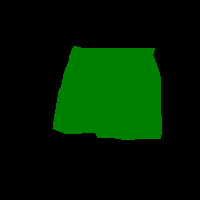mutande: (52, 45, 162, 140)
